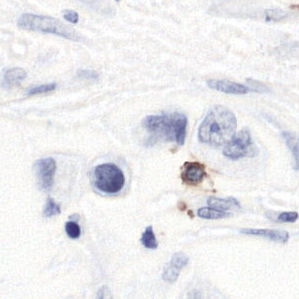Lymphocyte: (179, 158, 211, 186)
